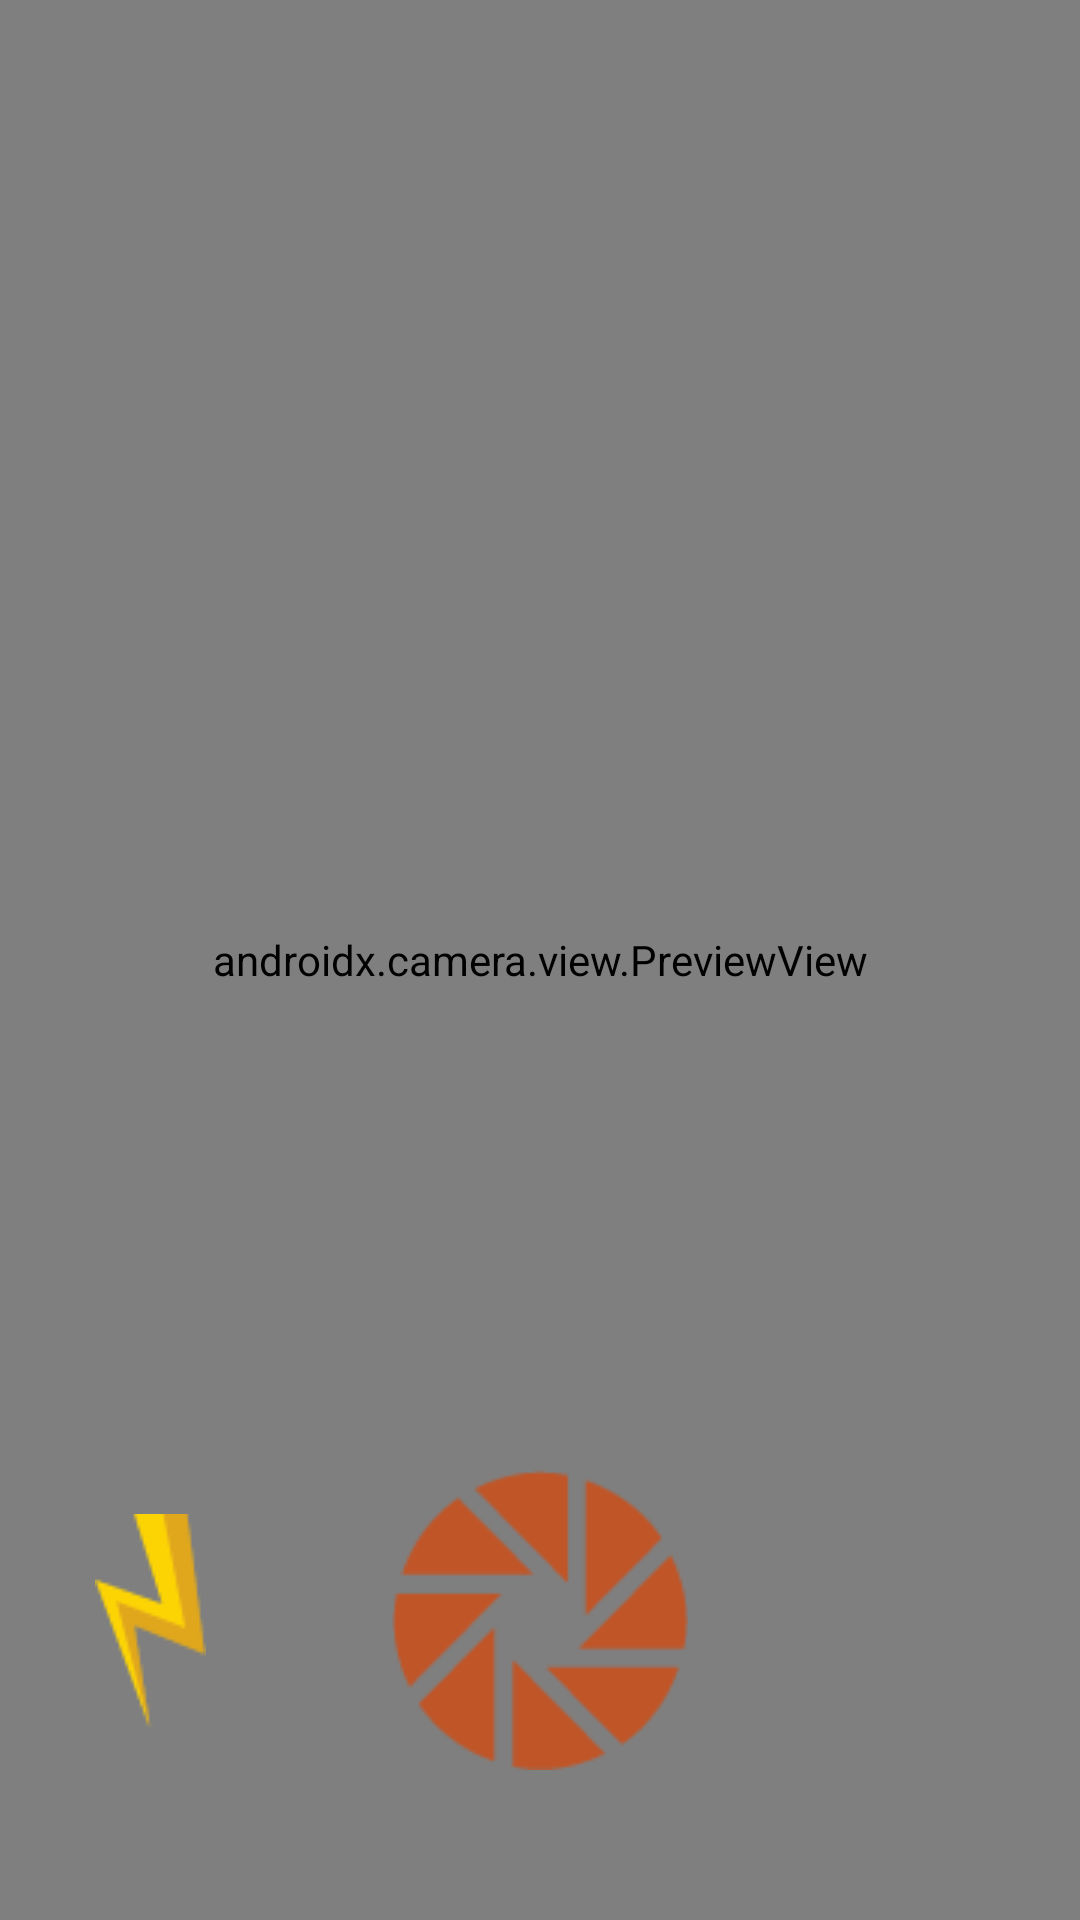

Named icons in this screenshot (1080×1920) and their centers, (x=x, y=y):
flash: (x=150, y=1619)
takepicture: (x=540, y=1621)
